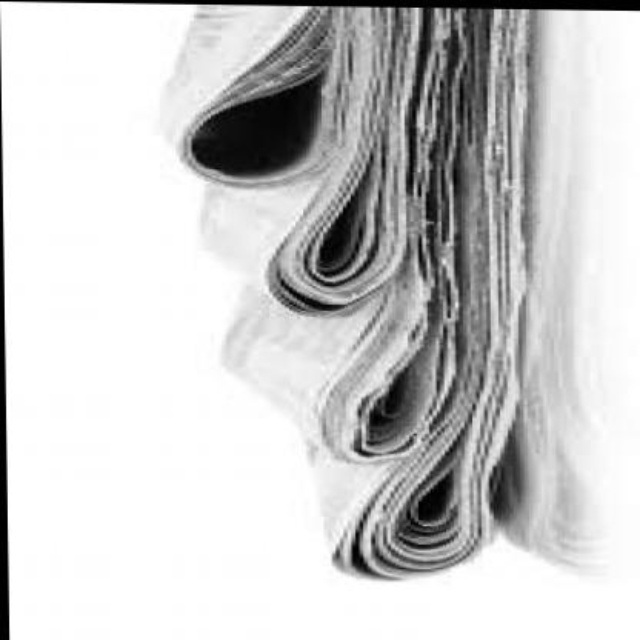trash: (162, 8, 638, 575)
